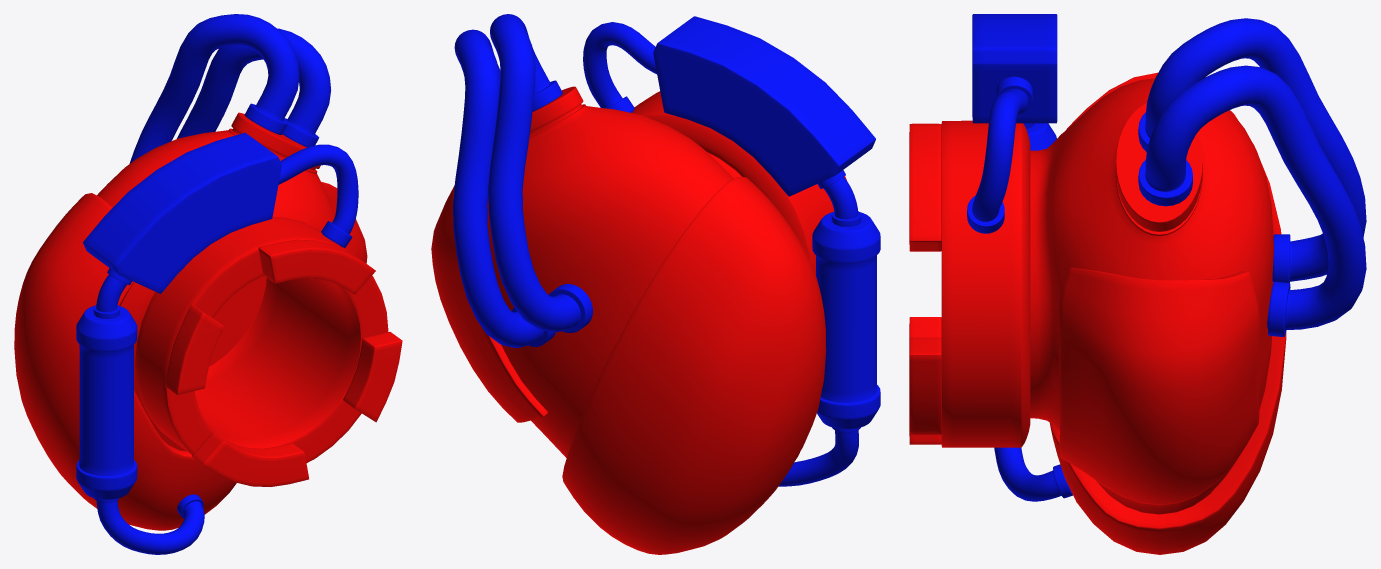
Rendered from main_HeartPoint001.fbx.
3 renders of one model, left to right at view 1: azimuth 30°, elevation 25°; view 2: azimuth 150°, elevation 25°; view 3: azimuth 270°, elevation 25°, orthographic. The views are drawn at different scales.
Parts seen in each view (by area): view 1: main_HeartPoint001; view 2: main_HeartPoint001; view 3: main_HeartPoint001.
Part boxes in pixels (box(x1,y1,x2,y2)): main_HeartPoint001: box(14, 14, 402, 554); main_HeartPoint001: box(431, 14, 880, 554); main_HeartPoint001: box(909, 14, 1366, 554).
Bounding box in the file's own units: 47.47 × 62.67 × 43.97.
